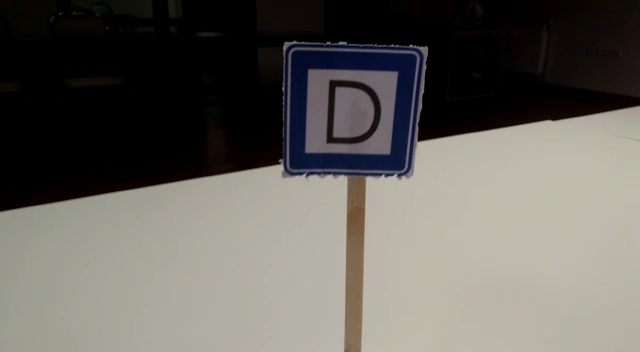durak: (283, 43, 428, 176)
